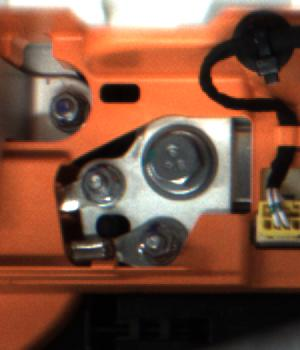nut_b: (134, 118, 226, 201)
